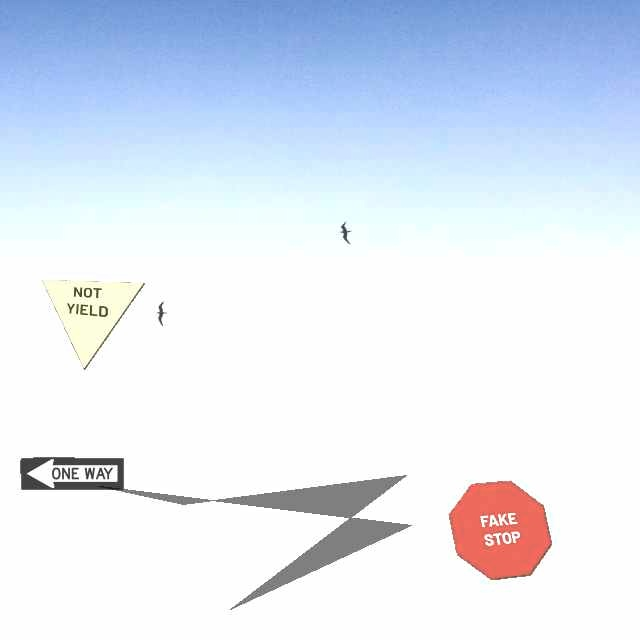FAKE_STOP: (448, 480, 552, 580)
NOT_YIELD: (41, 279, 145, 370)
ONE_WAY_ left: (20, 457, 124, 490)
